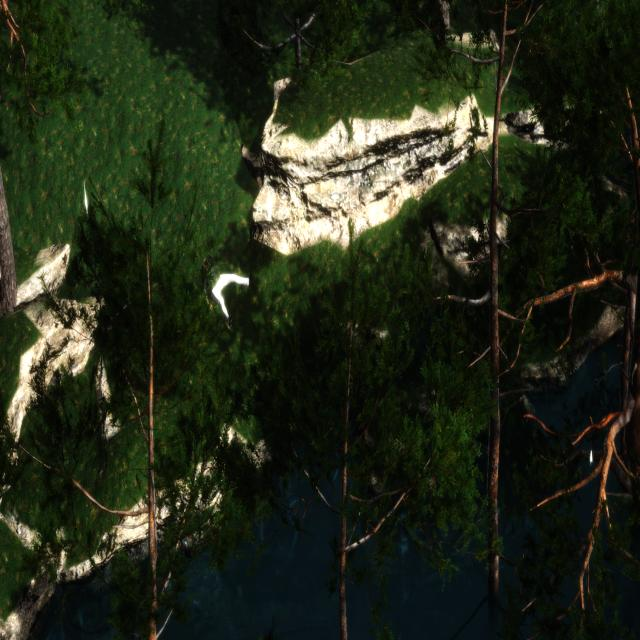Human: (198, 252, 258, 336)
